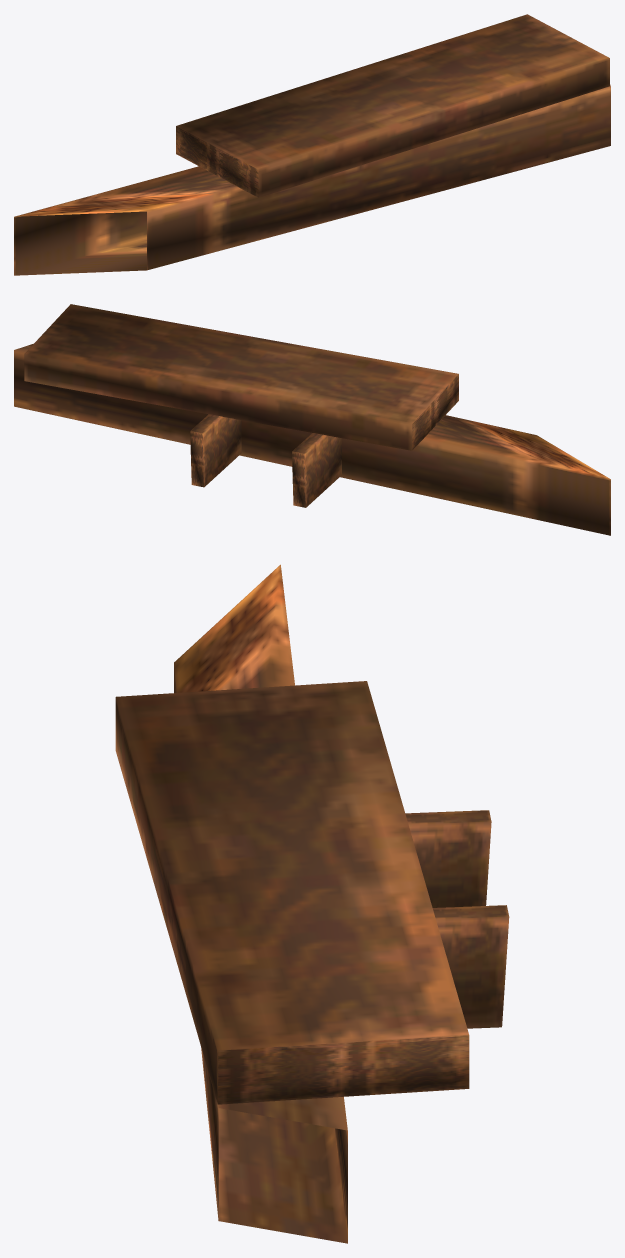
Rendered from SWORDLIGHT20_JAILPLATFORM06.obj.
3 views of the same model, one above another, from view 1: azimuth 30°, elevation 25°; view 2: azimuth 150°, elevation 25°; view 3: azimuth 270°, elevation 25° (orthographic). The views are drawn at different scales.
Visible parts, largest first — view 1: JailPlatform06; view 2: JailPlatform06; view 3: JailPlatform06.
Boxes of the visible parts, x1,y1,x2,y2 form: JailPlatform06: (14,14,610,275); JailPlatform06: (14,304,610,535); JailPlatform06: (115,564,509,1243).
Bounding box in the file's own units: 430 × 59.88 × 126.
